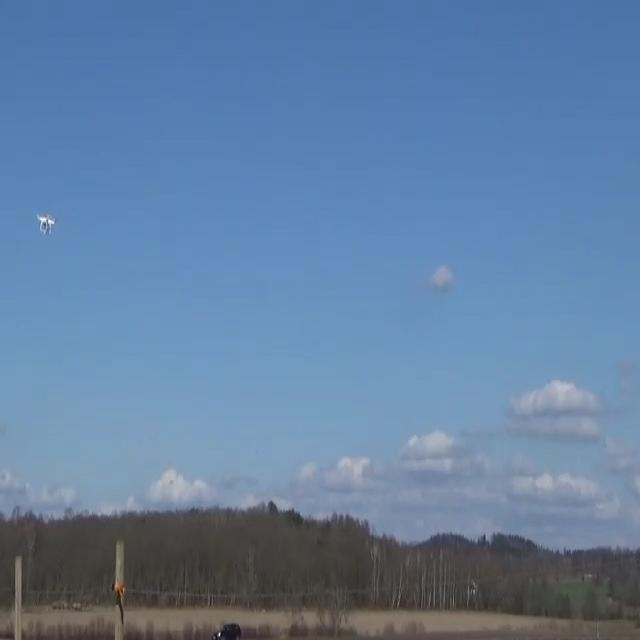drone: (36, 213, 55, 235)
